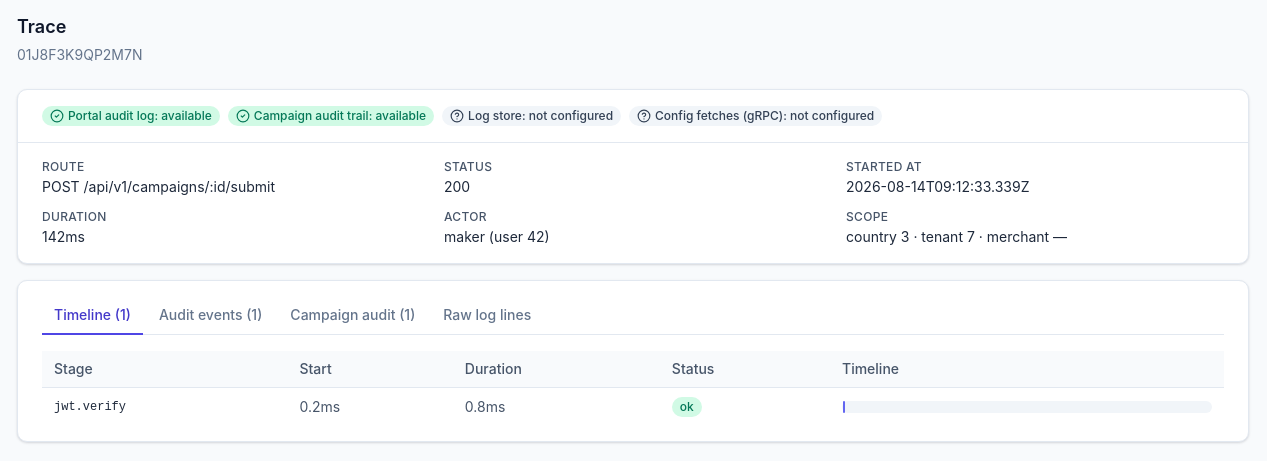
the domain-audit tab, populated › renders a dash rather than a link when there is no approval request
The width and height of the screenshot is (1267, 461).
Expected: the heading "Trace" is shown, [17,16,66,37]
Step 1. Click the tab "Campaign audit (1)" → (353, 316), box [278,297,427,335]
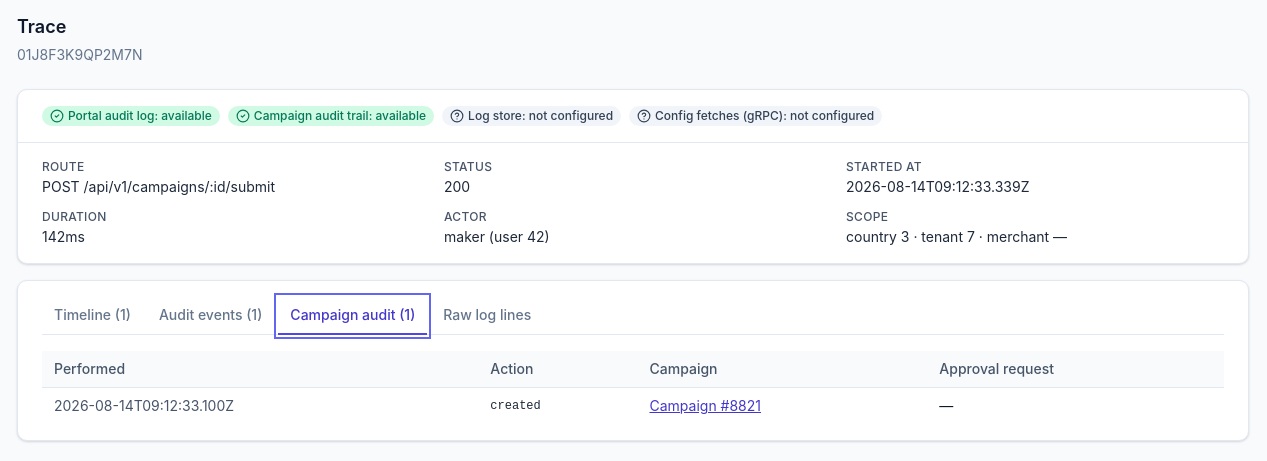
Result: the text "created" is shown at [478,388,637,424]
